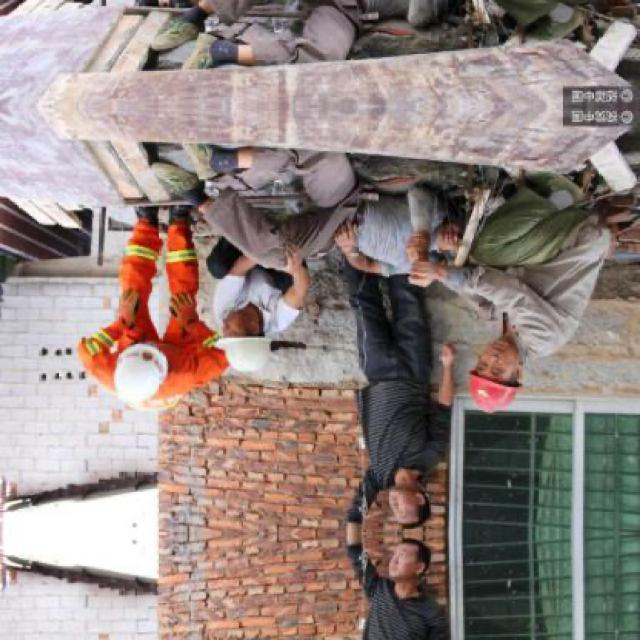con casco: (452, 325, 564, 443), (217, 302, 297, 375), (106, 330, 180, 406)
sin casco: (364, 462, 436, 534)
